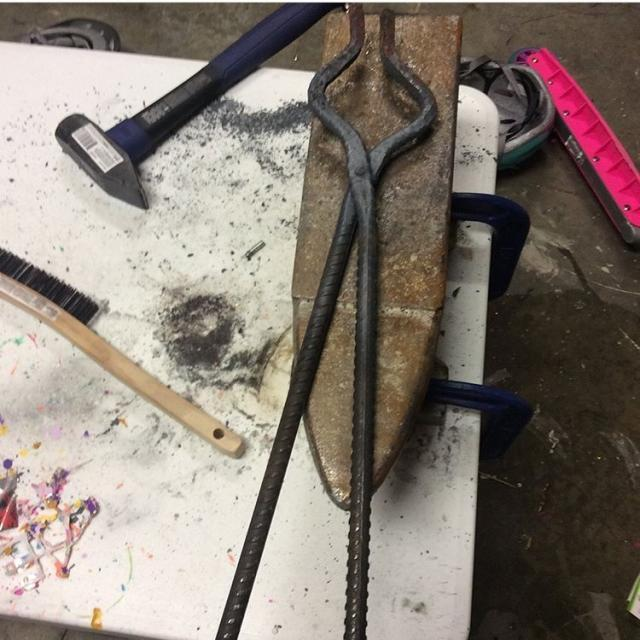hammer: (19, 2, 348, 216)
